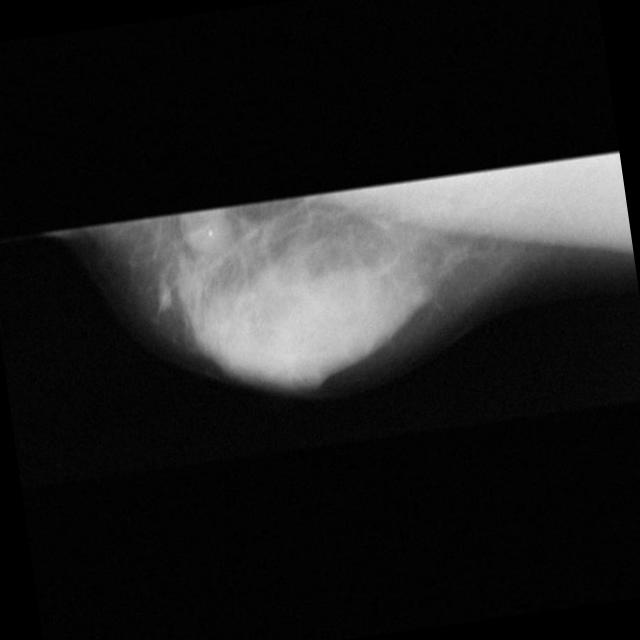CIRC: (174, 195, 238, 258)
